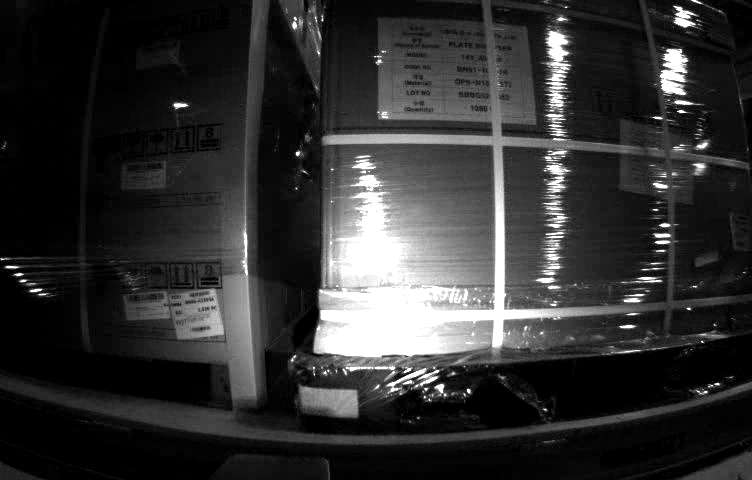True Barcode: (169, 289, 226, 342), (730, 210, 752, 252)
